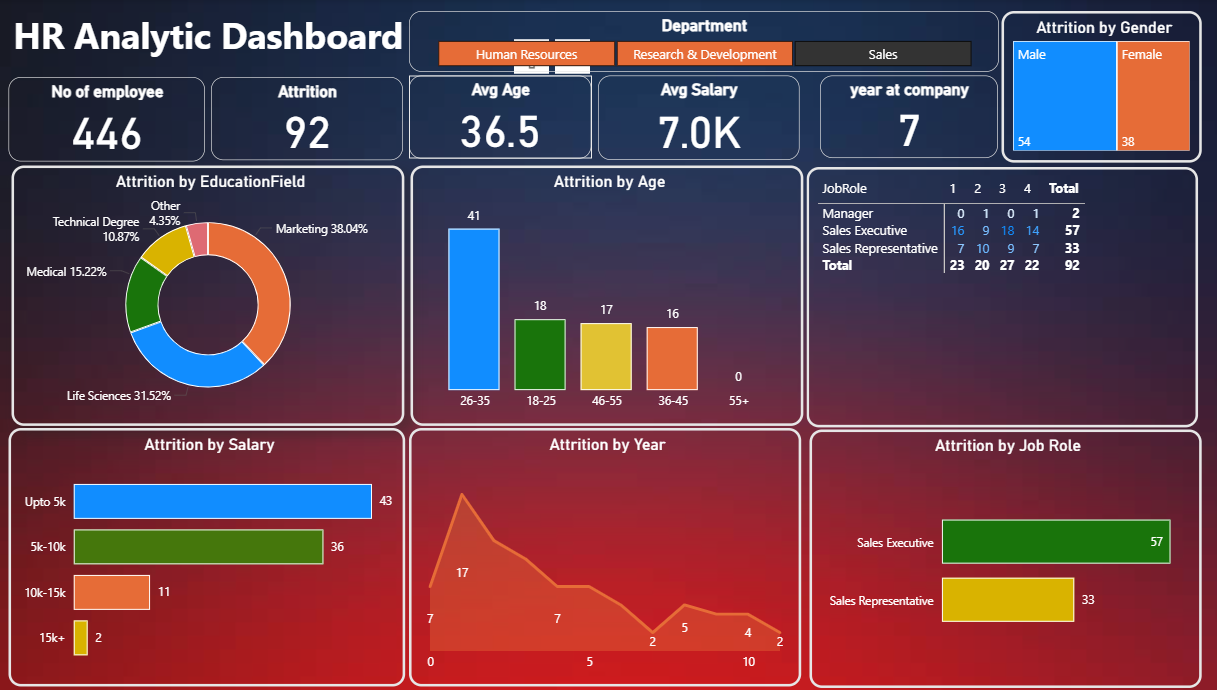

This screenshot's page, from the dashboard's own definition file:
{"tool":"powerbi","page":{"name":"HR Analytics","canvas":[1280,720],"ordinal":0},"visuals":[{"type":"card","title":"No of employee","fields":{"Values":["CountNonNull(HR_Analytics.EmpID)"]},"box":[13.7,80.7,204.8,88.1],"z":0},{"type":"card","title":"Attrition","fields":{"Values":["Sum(HR_Analytics.Attrition_Count)"]},"box":[224.7,80.7,199.9,86.9],"z":1000},{"type":"card","title":"Avg Age","fields":{"Values":["Avg(HR_Analytics.Age)"]},"box":[432,79.5,190,86.9],"z":2000},{"type":"card","title":"Avg Salary","fields":{"Values":["Avg(HR_Analytics.MonthlyIncome)"]},"box":[628.2,79.5,209.8,88.1],"z":3000},{"type":"card","title":"year at company","fields":{"Values":["Avg(HR_Analytics.YearsAtCompany)"]},"box":[859.9,79.8,185.2,85.8],"z":4000},{"type":"donutChart","title":"Attrition by EducationField","fields":{"Category":["HR_Analytics.EducationField"],"Y":["Sum(HR_Analytics.Attrition_Count)"]},"box":[16.6,173.2,409.6,271.1],"z":5000},{"type":"columnChart","title":"Attrition by Age","fields":{"Category":["HR_Analytics.AgeGroup"],"Y":["Sum(HR_Analytics.Attrition_Count)"]},"box":[433.7,173.2,409.6,271.1],"z":6000},{"type":"pivotTable","title":"Attrition by EducationField","fields":{"Rows":["HR_Analytics.JobRole"],"Columns":["HR_Analytics.JobSatisfaction"],"Values":["Sum(HR_Analytics.Attrition_Count)"]},"box":[846.3,174.7,408.1,271.1],"z":7000},{"type":"clusteredBarChart","title":"Attrition by Salary","fields":{"Category":["HR_Analytics.SalarySlab"],"Y":["Sum(HR_Analytics.Attrition_Count)"]},"box":[13.7,446.9,413.4,269.4],"z":8000},{"type":"clusteredBarChart","title":"Attrition by Job Role","fields":{"Category":["HR_Analytics.JobRole"],"Y":["Sum(HR_Analytics.Attrition_Count)"]},"box":[848,448.2,408.5,269.4],"z":9000},{"type":"stackedAreaChart","title":"Attrition by Year","fields":{"Category":["HR_Analytics.YearsAtCompany"],"Y":["Sum(HR_Analytics.Attrition_Count)"]},"box":[432,446.9,408.5,269.4],"z":10000},{"type":"treemap","title":"Attrition by Gender","fields":{"Group":["HR_Analytics.Gender"],"Values":["Sum(HR_Analytics.Attrition_Count)"]},"box":[1049.1,12.4,208.6,157.7],"z":11000},{"type":"slicer","title":"Department","fields":{"Values":["HR_Analytics.Department"]},"box":[432,12.4,614.5,63.3],"z":12000},{"type":"textbox","box":[13.7,6.2,419.6,70.8],"z":13000}]}

Visuals, with their boxes in screenshot pixels (x1, y1, x2, y2), scaled from the page's 1280x720 canvas onto the 1217x690 screenshot:
"No of employee" card: 13, 77, 208, 162
"Attrition" card: 214, 77, 404, 161
"Avg Age" card: 411, 76, 591, 159
"Avg Salary" card: 597, 76, 797, 161
"year at company" card: 818, 76, 994, 159
"Attrition by EducationField" donutChart: 16, 166, 405, 426
"Attrition by Age" columnChart: 412, 166, 802, 426
"Attrition by EducationField" pivotTable: 805, 167, 1193, 427
"Attrition by Salary" clusteredBarChart: 13, 428, 406, 686
"Attrition by Job Role" clusteredBarChart: 806, 430, 1195, 688
"Attrition by Year" stackedAreaChart: 411, 428, 799, 686
"Attrition by Gender" treemap: 997, 12, 1196, 163
"Department" slicer: 411, 12, 995, 73
textbox: 13, 6, 412, 74
